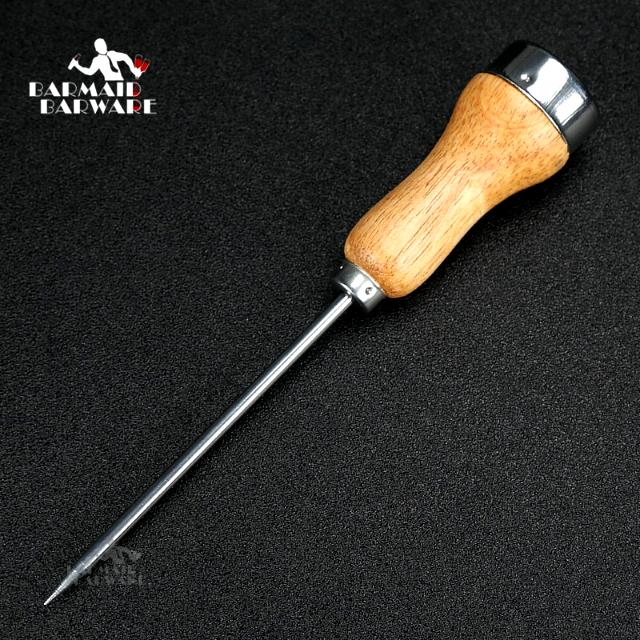ice pick: (44, 42, 598, 606)
